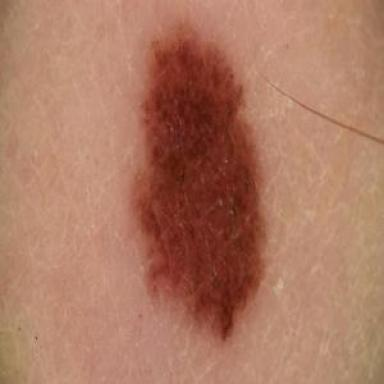Melanoma: (134, 24, 263, 340)
